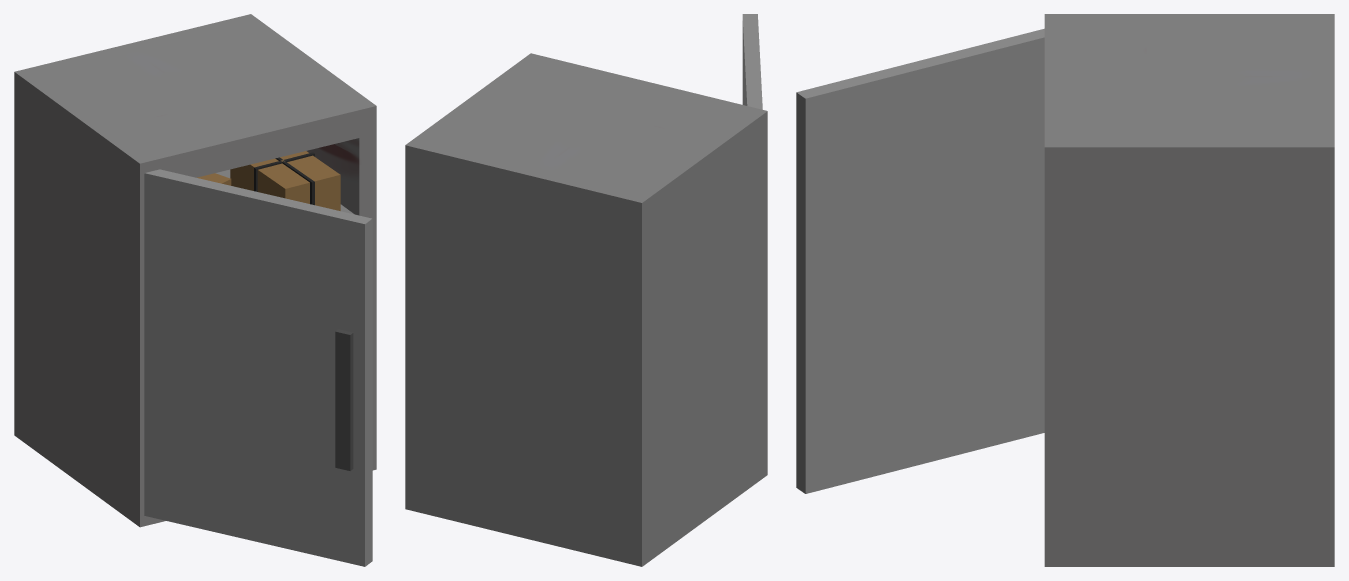
The model's file is Fridge2.fbx.
3 views of the same model, side by side, from view 1: azimuth 30°, elevation 25°; view 2: azimuth 150°, elevation 25°; view 3: azimuth 270°, elevation 25° (orthographic). The views are drawn at different scales.
Parts seen in each view (by area): view 1: Fridge Body.001, Cube.001; view 2: Fridge Body.001; view 3: Fridge Body.001.
Boxes of the visible parts, left/top/right/bottom form: Fridge Body.001: left=14, top=14, right=376, bottom=566; Cube.001: left=230, top=151, right=340, bottom=210; Fridge Body.001: left=405, top=14, right=767, bottom=566; Fridge Body.001: left=796, top=14, right=1334, bottom=566.
Bounding box in the file's own units: 515 × 755 × 878.
